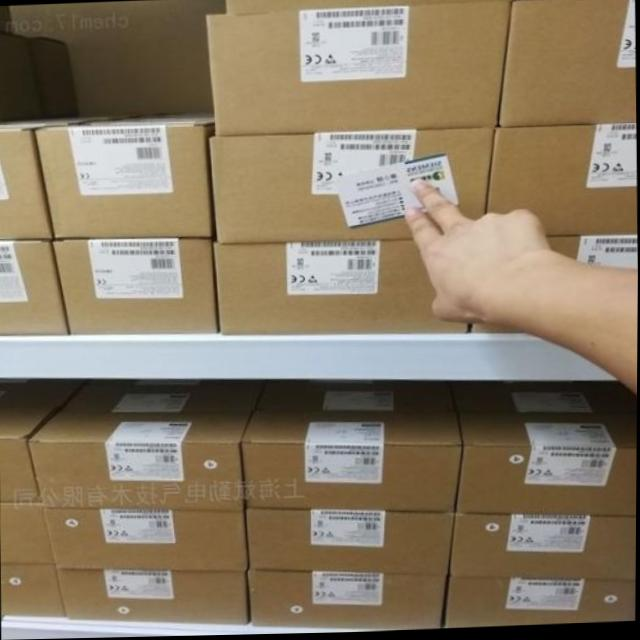box: (204, 4, 507, 136), (209, 130, 493, 243), (26, 381, 263, 510), (239, 381, 461, 512), (454, 384, 637, 519), (211, 241, 467, 336), (36, 115, 215, 241), (500, 0, 636, 128), (488, 125, 637, 238), (53, 240, 217, 334), (245, 508, 453, 578), (452, 512, 637, 586), (0, 116, 102, 240), (43, 509, 245, 568), (246, 571, 445, 628), (59, 567, 248, 627), (0, 378, 85, 502), (443, 578, 637, 627), (0, 241, 69, 334), (2, 562, 66, 617), (1, 502, 55, 566), (548, 239, 637, 271)
